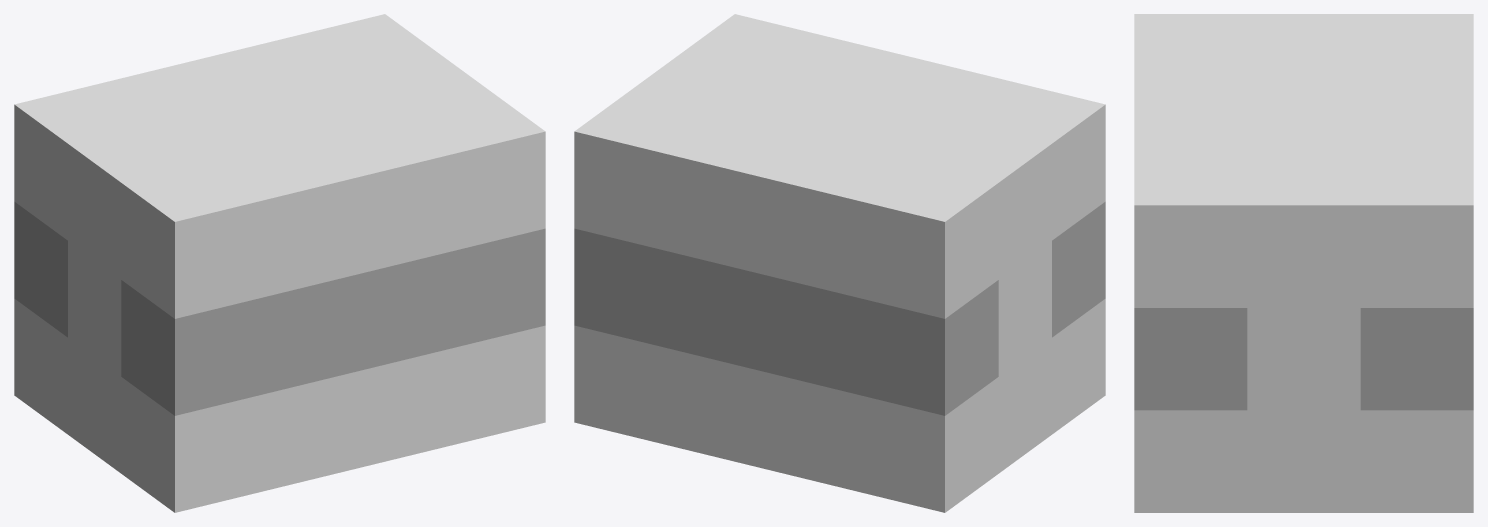
The model's file is body.obj.
3 renders of one model, left to right at view 1: azimuth 30°, elevation 25°; view 2: azimuth 150°, elevation 25°; view 3: azimuth 270°, elevation 25°, orthographic. The views are drawn at different scales.
Size of the model in its own units: 0.4 by 0.3 by 0.3.
Materials: 1 (1 with a texture image).
